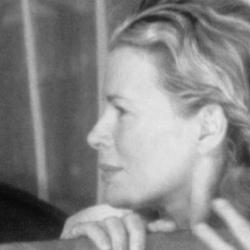face: (74, 8, 250, 217)
